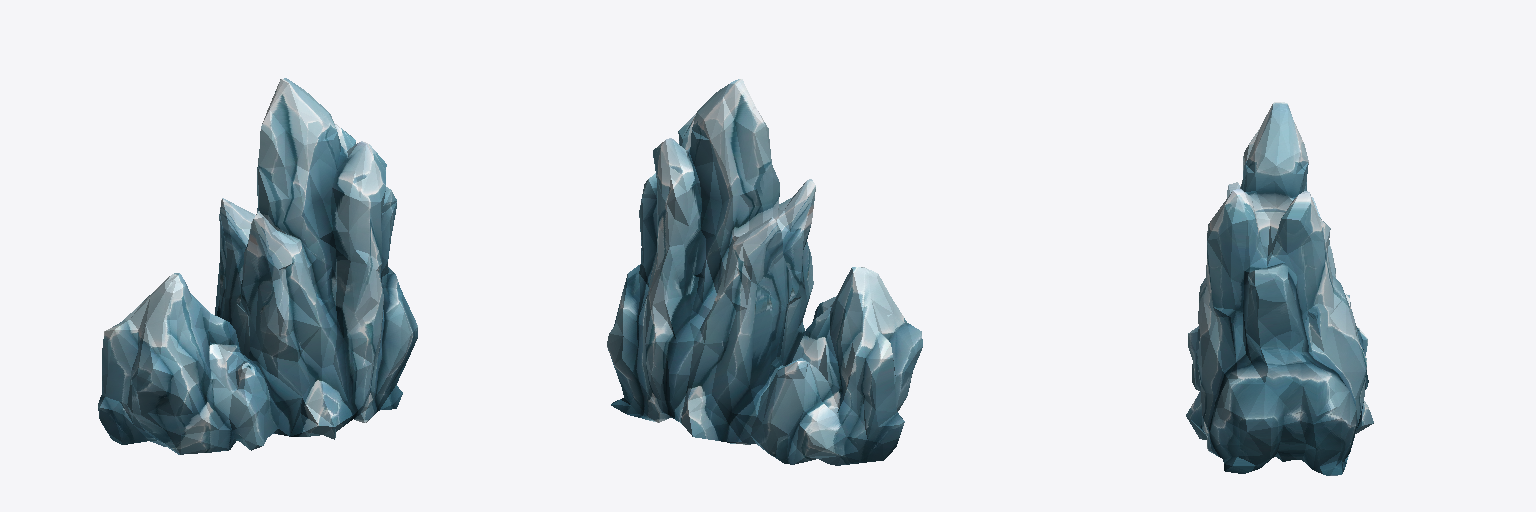
3 renders of one model, left to right at view 1: azimuth 30°, elevation 25°; view 2: azimuth 150°, elevation 25°; view 3: azimuth 270°, elevation 25°, orthographic.
Parts seen in each view (by area): view 1: IceCluster; view 2: IceCluster; view 3: IceCluster.
Boxes of the visible parts, x1=… form: IceCluster: x1=98, y1=78, x2=417, y2=454; IceCluster: x1=607, y1=79, x2=922, y2=465; IceCluster: x1=1186, y1=102, x2=1373, y2=475.
Size of the model in its own units: 0.9113 by 0.9978 by 0.5079.
Materials: 1 (1 with a texture image).